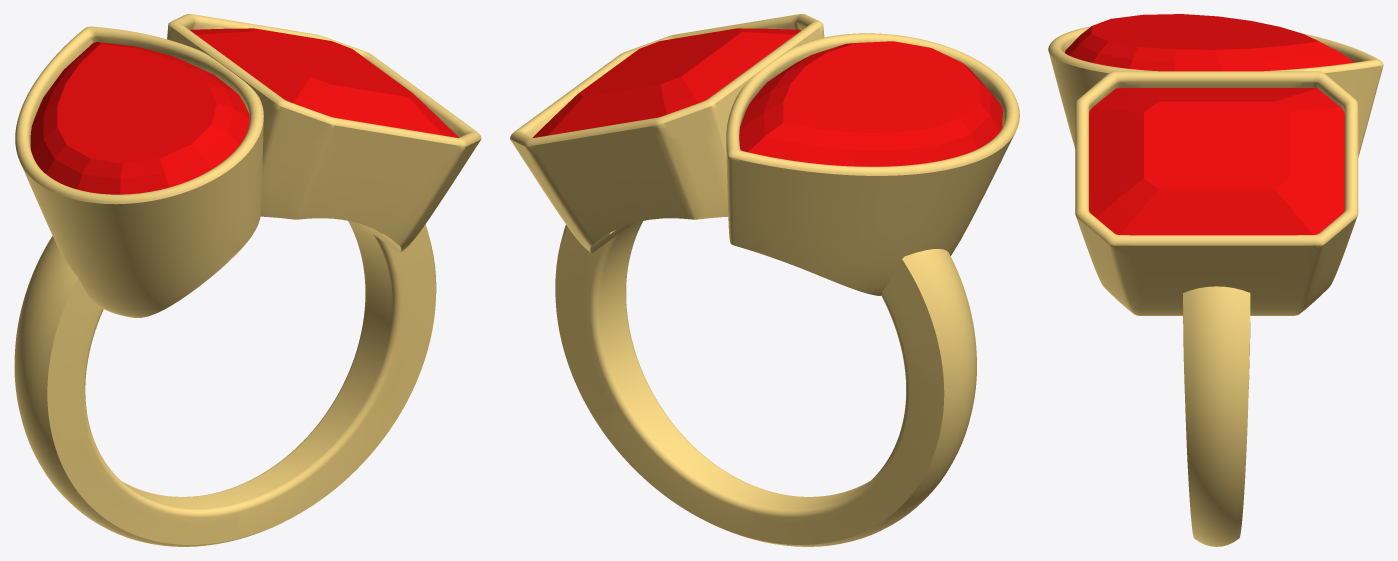
Rendered from Amy Jesiolowski Straight Taper Garnet.glb.
The picture shows the model from 3 angles, left to right: view 1: azimuth 30°, elevation 25°; view 2: azimuth 150°, elevation 25°; view 3: azimuth 270°, elevation 25°; orthographic projection. The views are drawn at different scales.
Visible parts, largest first — view 1: Amy YG straight taper for 3d model, Amy garnet for 3d model, Amy garnet for 3d model.001; view 2: Amy YG straight taper for 3d model, Amy garnet for 3d model, Amy garnet for 3d model.001; view 3: Amy YG straight taper for 3d model, Amy garnet for 3d model.001, Amy garnet for 3d model.
Boxes of the visible parts, left/top/right/bottom form: Amy YG straight taper for 3d model: left=14, top=14, right=481, bottom=546; Amy garnet for 3d model: left=30, top=42, right=249, bottom=194; Amy garnet for 3d model.001: left=190, top=28, right=458, bottom=137; Amy YG straight taper for 3d model: left=510, top=14, right=1019, bottom=546; Amy garnet for 3d model: left=739, top=41, right=1002, bottom=166; Amy garnet for 3d model.001: left=532, top=28, right=800, bottom=137; Amy YG straight taper for 3d model: left=1048, top=26, right=1383, bottom=546; Amy garnet for 3d model.001: left=1089, top=88, right=1344, bottom=235; Amy garnet for 3d model: left=1065, top=14, right=1354, bottom=71.
Size of the model in its own units: 21.68 by 24.01 by 15.94.
